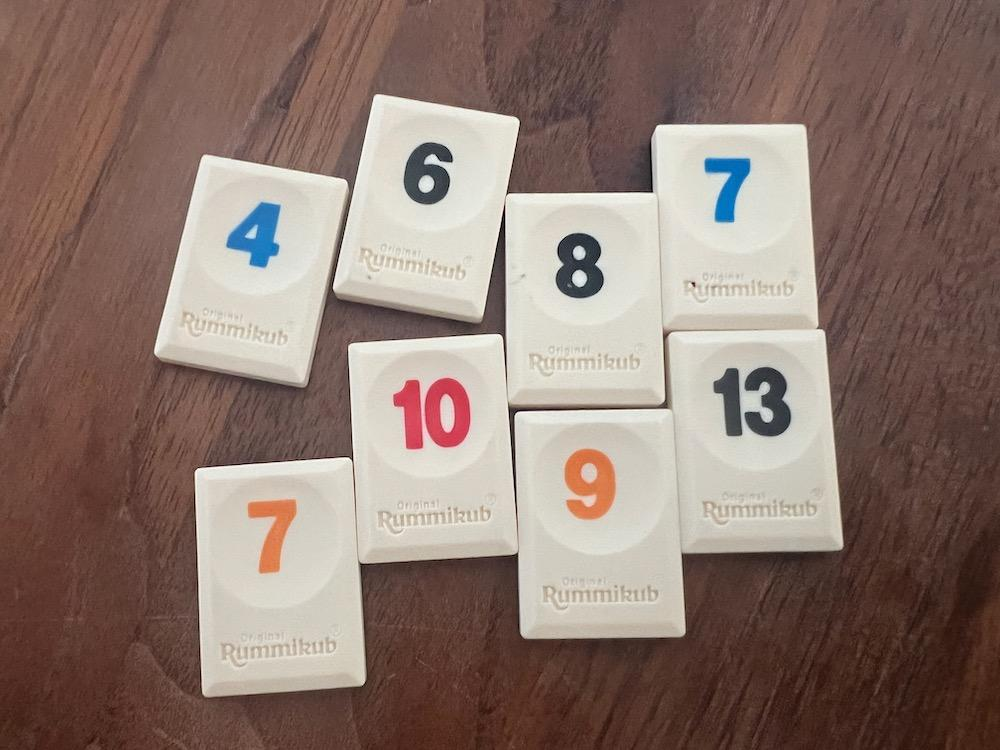black_13: (668, 330, 844, 551)
black_6: (334, 96, 520, 322)
black_8: (506, 193, 664, 408)
blue_4: (154, 156, 348, 387)
blue_7: (652, 125, 818, 329)
orange_7: (195, 459, 365, 697)
orange_9: (516, 410, 686, 639)
red_10: (350, 334, 518, 564)
